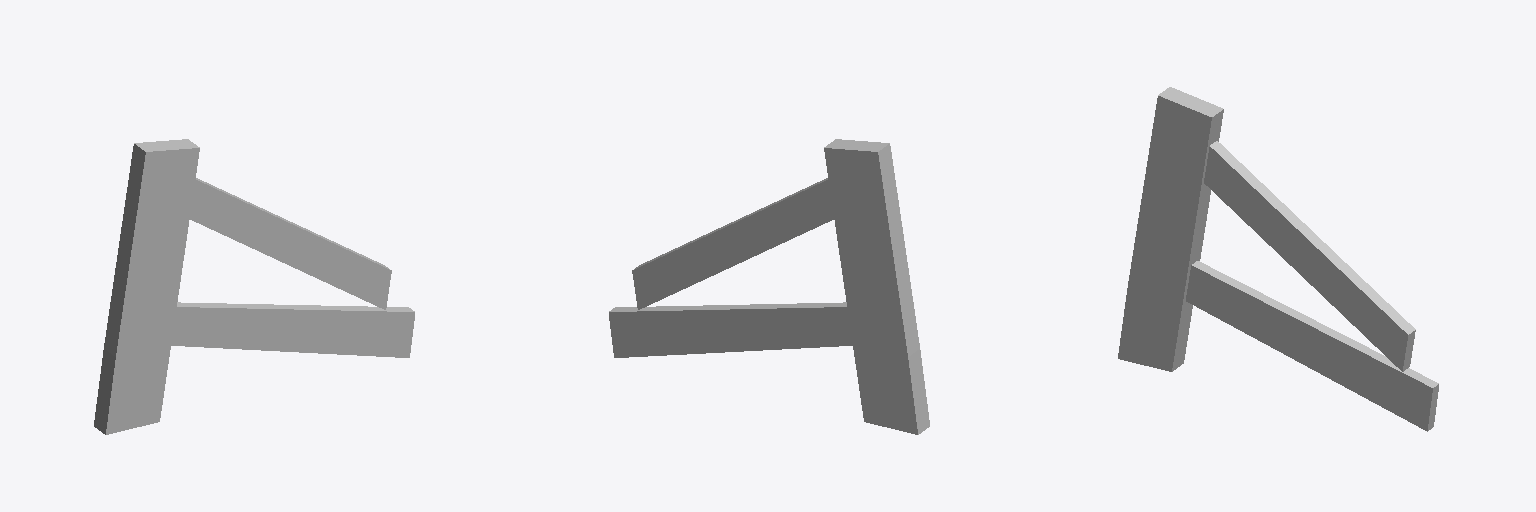
File: WOH_Asset_Fence_Broken.obj
The picture shows the model from 3 angles: view 1: azimuth 30°, elevation 25°; view 2: azimuth 150°, elevation 25°; view 3: azimuth 330°, elevation 25°; orthographic projection.
Parts seen in each view (by area): view 1: WOH_Asset_Fence_Broken; view 2: WOH_Asset_Fence_Broken; view 3: WOH_Asset_Fence_Broken.
Part boxes in pixels (x1,y1,x2,y2): WOH_Asset_Fence_Broken: (94, 139, 414, 434); WOH_Asset_Fence_Broken: (609, 139, 929, 434); WOH_Asset_Fence_Broken: (1118, 87, 1438, 431).
Size of the model in its own units: 9.22 by 7.7 by 0.6166.